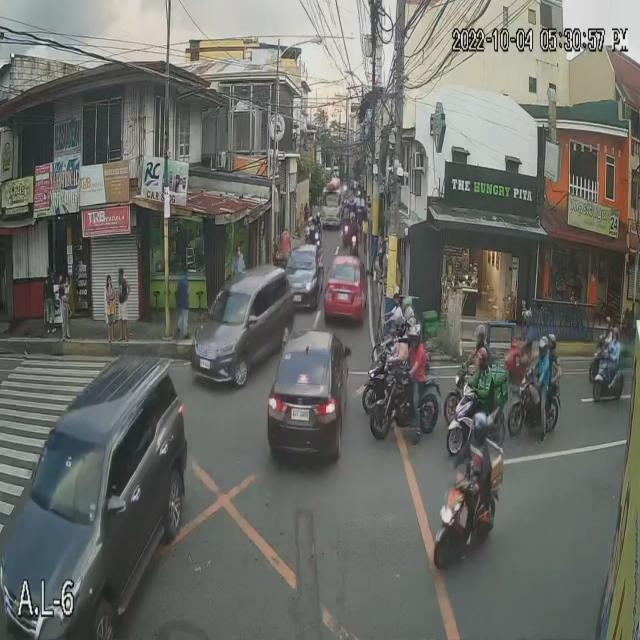full: (406, 320, 424, 350), (393, 313, 408, 341), (472, 320, 487, 347), (537, 333, 548, 360)
half: (470, 411, 490, 448), (474, 346, 491, 373), (545, 328, 557, 355)
